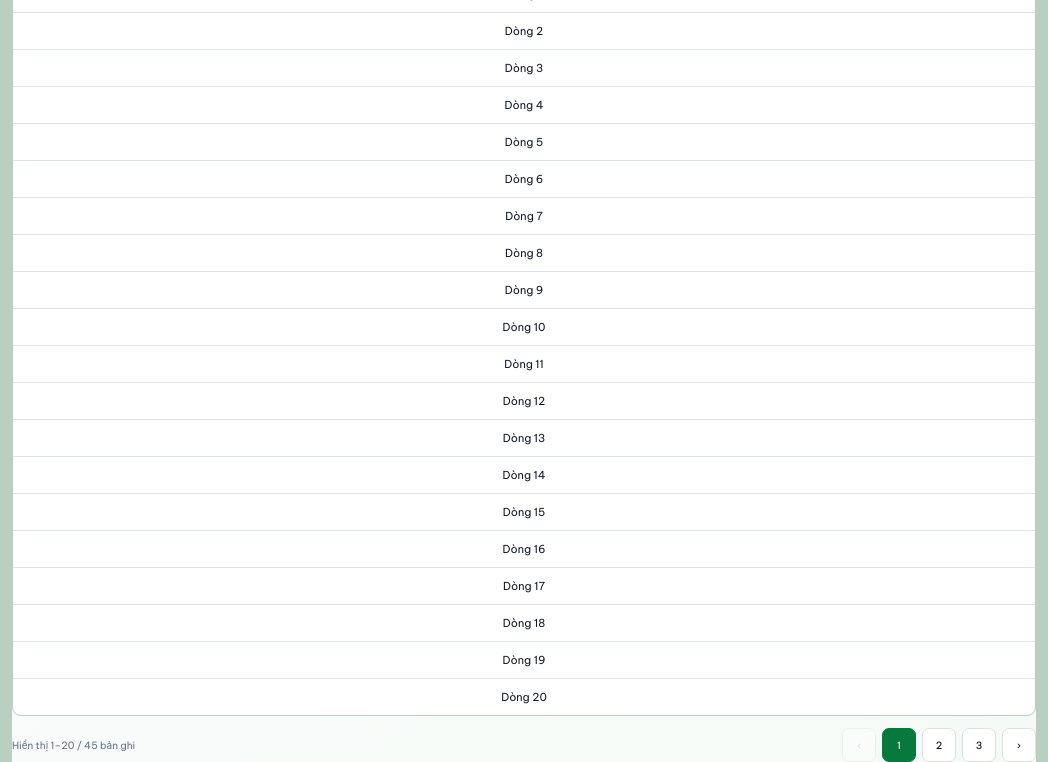
it: TableWrap pagination › renders at most 20 data rows and exposes numbered pages
(page scrolled)
expect the text "Dòng 20" is shown: met, box 13,678 -> 1035,715
expect the text "Dòng 21" is not shown: met
Click the button named "Trang 2". click: (939, 745)
box: 922,728 -> 956,761
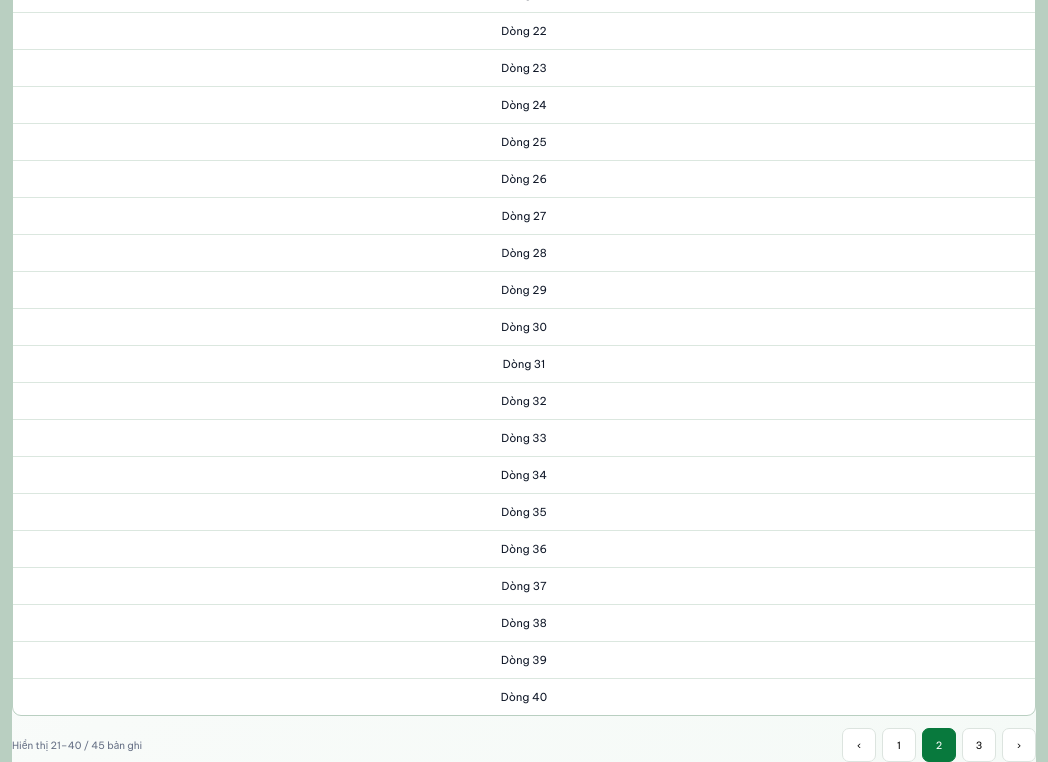
expect the text "Dòng 40" is shown: met, box 13,678 -> 1035,715
